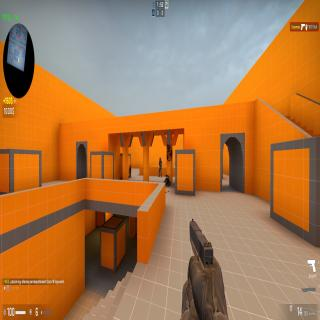CT-Body: (159, 156, 162, 178)
CT-Head: (160, 156, 161, 160)
